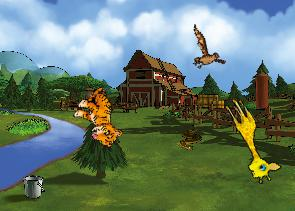eagle: (175, 24, 234, 79)
giraffe: (213, 94, 284, 187)
tiger: (66, 82, 136, 151)
